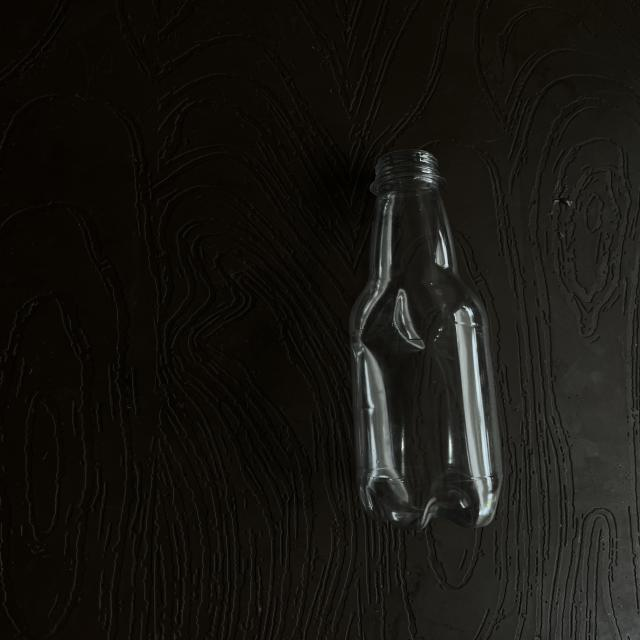PET_ClearBottle: (337, 134, 515, 606)
